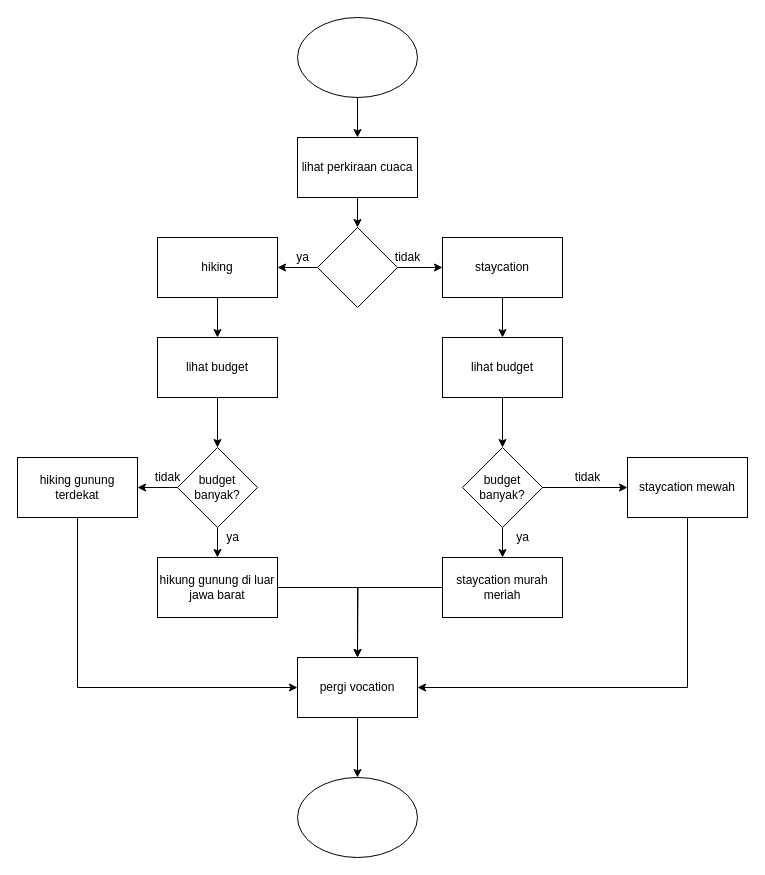
Some shapes in this 765 by 875 pixel diagram are drawn without their labels. The shapes that lost their labels are listed below. From the top down, each one's box as (x1, y1, x2, y2) in pixels, then its label:
(296, 16, 418, 98): mulai
(316, 226, 398, 308): cerah
(296, 776, 418, 858): selesai
